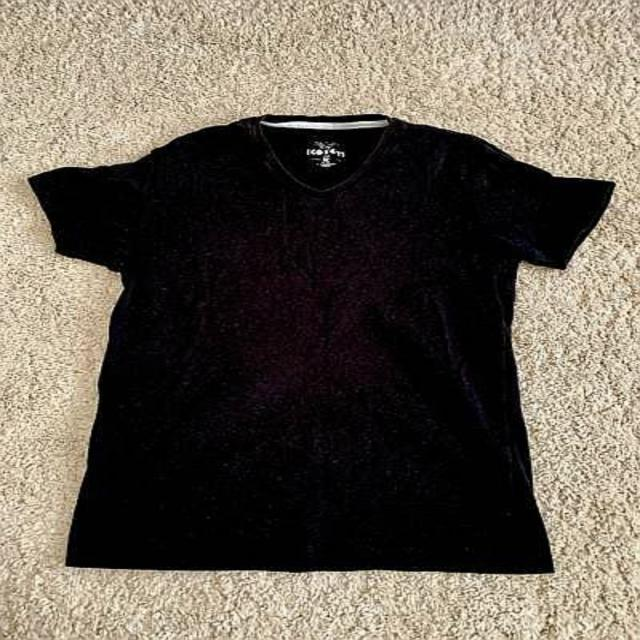T_SHIRT: (9, 105, 623, 583)
